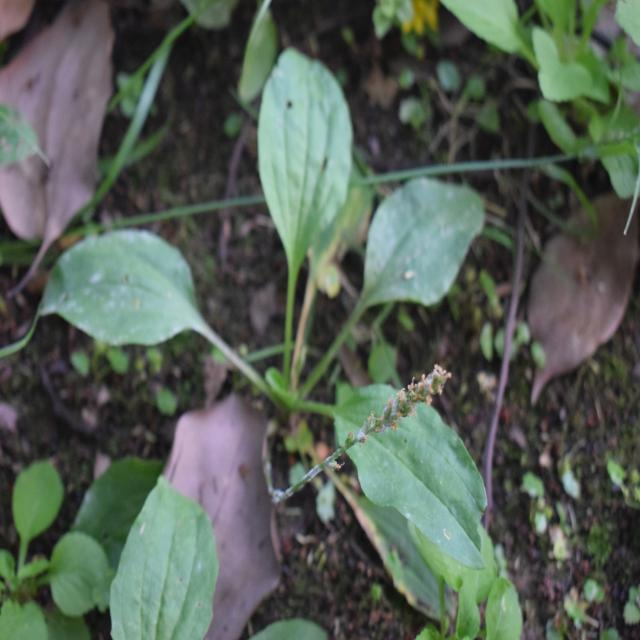plantain: (45, 64, 496, 568)
